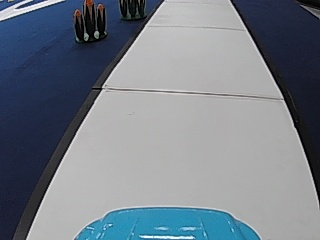corn: (71, 0, 108, 42), (118, 0, 146, 20)
